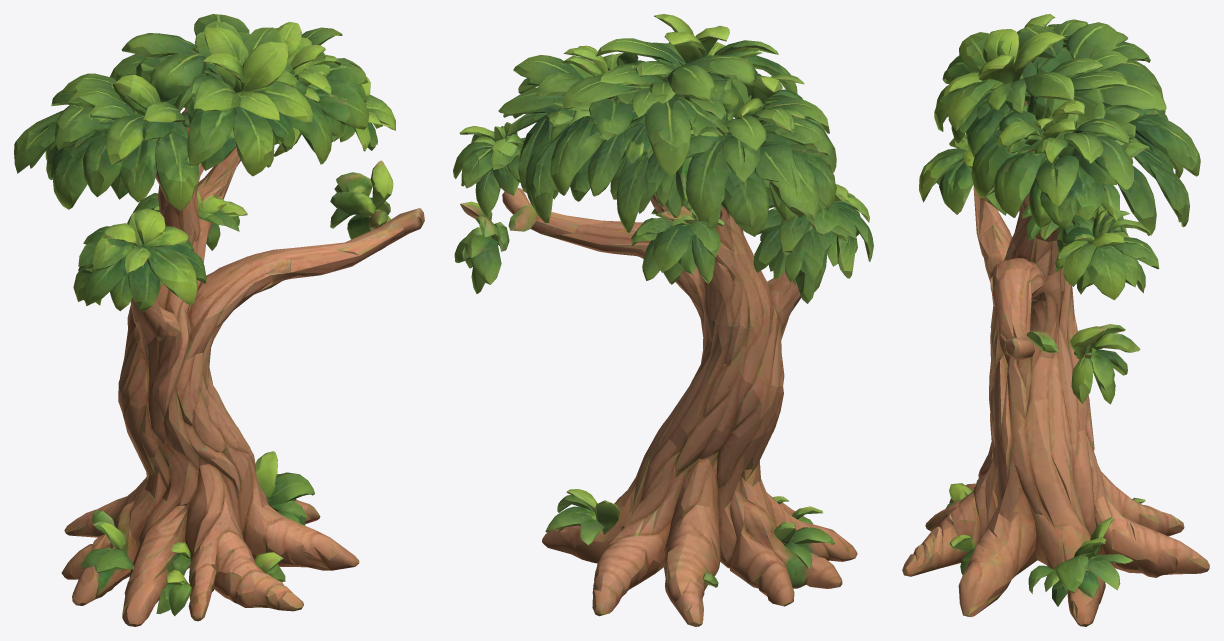
File: tree.glb
The picture shows the model from 3 angles, left to right: view 1: azimuth 30°, elevation 25°; view 2: azimuth 150°, elevation 25°; view 3: azimuth 270°, elevation 25°; orthographic projection.
Parts seen in each view (by area): view 1: output_unwrapped; view 2: output_unwrapped; view 3: output_unwrapped.
Boxes of the visible parts, x1,y1,x2,y2 form: output_unwrapped: [14, 14, 424, 626]; output_unwrapped: [453, 14, 873, 626]; output_unwrapped: [902, 14, 1209, 626].
Size of the model in its own units: 1.38 by 1.9 by 0.9924.
Materials: 1 (1 with a texture image).
